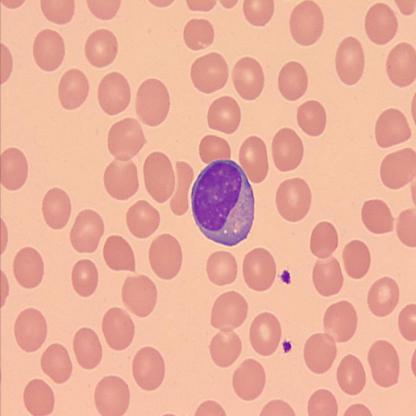Atypical lymphocyte: (188, 156, 258, 251)
